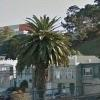Tree: (9, 8, 71, 91)
